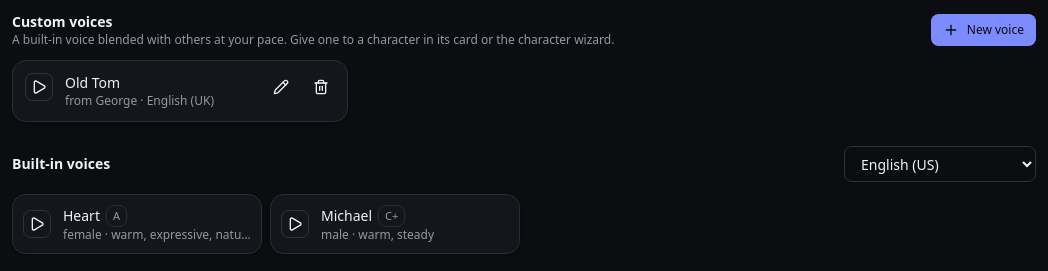
Test: the Voices panel lists custom and built-in voices by language
Expected: the element with test id "voice-Old Tom" shows "from George · English (UK)", [12,60,348,122]
Expected: the element with test id "builtin-af_heart" shows "female · warm, expressive, natural", [12,194,262,254]
Select "English (UK)" in the dropdown named "Language" at (940, 164), box [844,146,1036,182]
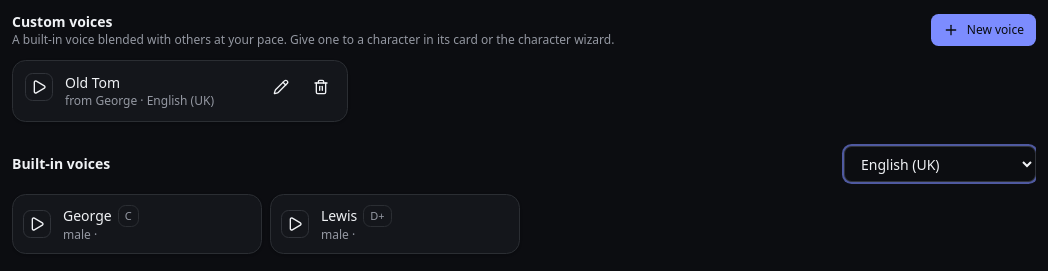
Expected: the element with test id "builtin-bm_george" is shown, [12,194,262,254]
